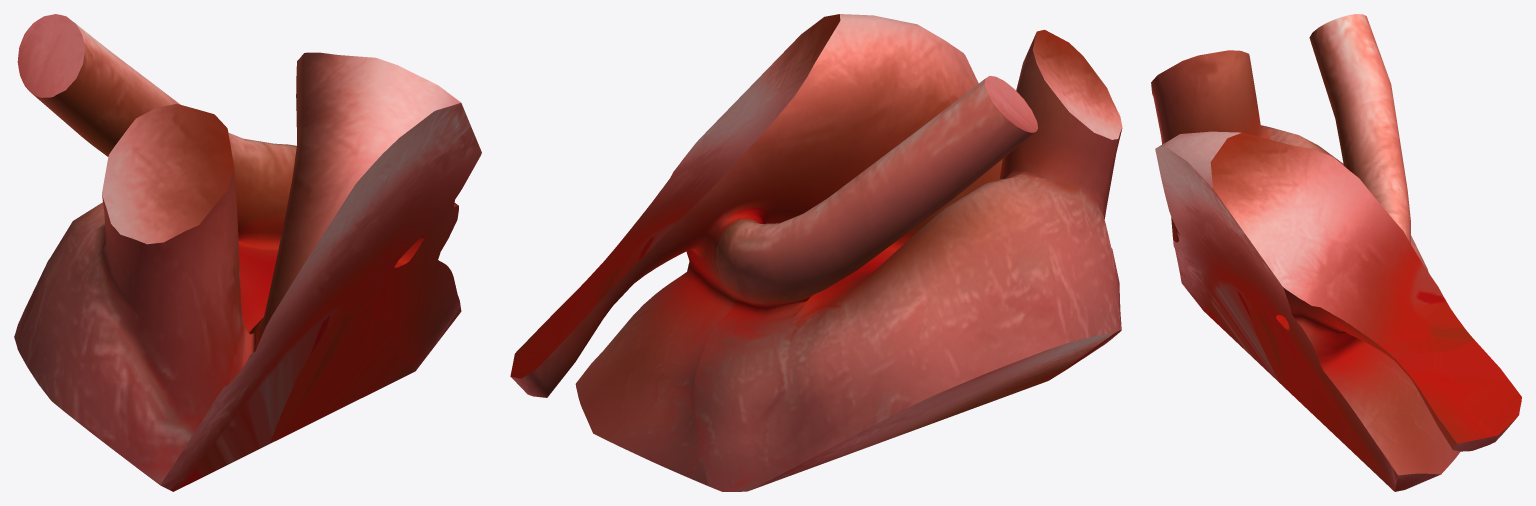
File: SM_HeartPiece_17_.FBX
3 renders of one model, left to right at view 1: azimuth 30°, elevation 25°; view 2: azimuth 150°, elevation 25°; view 3: azimuth 270°, elevation 25°, orthographic. The views are drawn at different scales.
Parts seen in each view (by area): view 1: SM_HeartPiece_17_; view 2: SM_HeartPiece_17_; view 3: SM_HeartPiece_17_.
Boxes of the visible parts, x1=… form: SM_HeartPiece_17_: x1=14, y1=14, x2=481, y2=491; SM_HeartPiece_17_: x1=510, y1=14, x2=1122, y2=491; SM_HeartPiece_17_: x1=1151, y1=14, x2=1521, y2=491.
Bounding box in the file's own units: 412 × 339 × 344.
